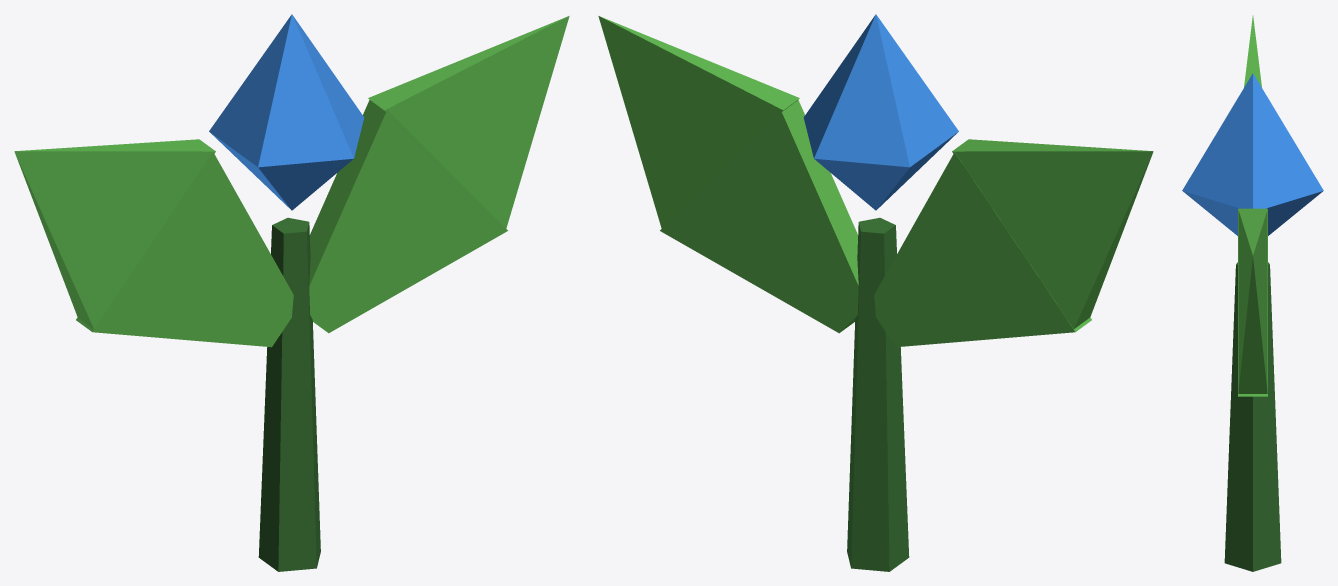
File: HealLeaf.obj
The picture shows the model from 3 angles, left to right: view 1: azimuth 30°, elevation 25°; view 2: azimuth 150°, elevation 25°; view 3: azimuth 270°, elevation 25°; orthographic projection. The views are drawn at different scales.
Visible parts, largest first — view 1: Leaf, Drop; view 2: Leaf, Drop; view 3: Leaf, Drop.
Part boxes in pixels (<box>): Leaf: <box>14,16,569,571</box>; Drop: <box>209,14,364,210</box>; Leaf: <box>598,16,1153,571</box>; Drop: <box>803,14,958,210</box>; Leaf: <box>1224,15,1281,571</box>; Drop: <box>1182,73,1323,235</box>.
Bounding box in the file's own units: 0.3839 × 0.36 × 0.0951.
